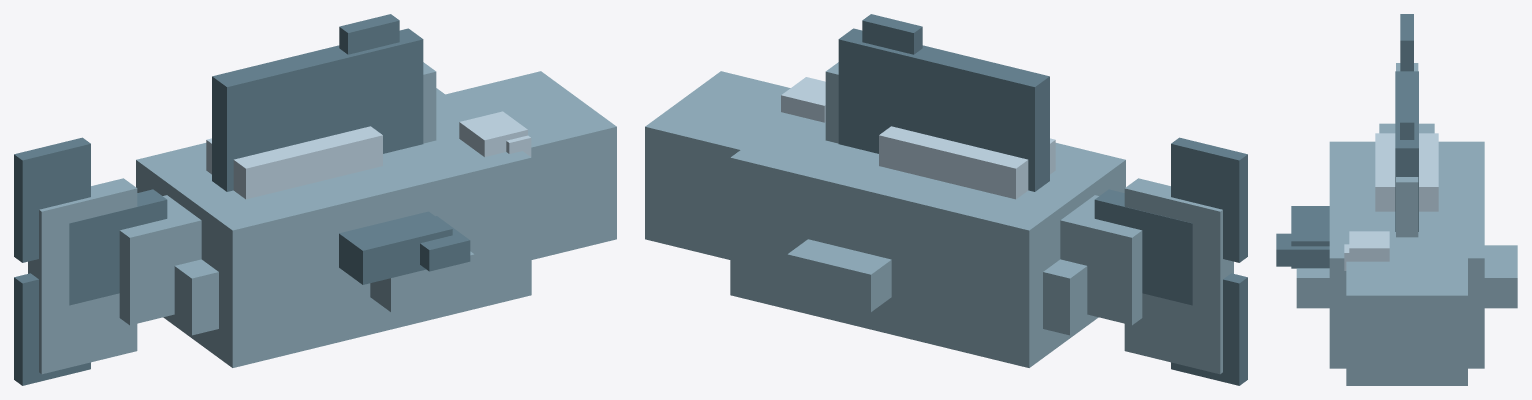
Rendered from fish_rime_bream.glb.
3 views of the same model, side by side, from view 1: azimuth 30°, elevation 25°; view 2: azimuth 150°, elevation 25°; view 3: azimuth 270°, elevation 25° (orthographic). The views are drawn at different scales.
Parts seen in each view (by area): view 1: FishArt_body, FishArt_dorsal, FishArt_tail, FishArt_pectoral, FishArt_specialty, FishArt_eye; view 2: FishArt_body, FishArt_dorsal, FishArt_tail, FishArt_specialty, FishArt_eye; view 3: FishArt_body, FishArt_specialty, FishArt_pectoral, FishArt_dorsal, FishArt_eye, FishArt_tail.
Part boxes in pixels (x1,y1,x2,y2): FishArt_body: [28, 62, 616, 374]; FishArt_dorsal: [212, 14, 423, 191]; FishArt_tail: [14, 137, 167, 385]; FishArt_pectoral: [339, 211, 470, 284]; FishArt_specialty: [206, 126, 382, 199]; FishArt_eye: [459, 111, 531, 156]; FishArt_body: [645, 62, 1233, 374]; FishArt_dorsal: [838, 14, 1049, 191]; FishArt_tail: [1094, 137, 1247, 385]; FishArt_specialty: [879, 126, 1055, 199]; FishArt_eye: [781, 77, 825, 122]; FishArt_body: [1296, 63, 1517, 385]; FishArt_specialty: [1375, 133, 1438, 211]; FishArt_pectoral: [1276, 206, 1329, 268]; FishArt_dorsal: [1395, 71, 1418, 231]; FishArt_eye: [1344, 231, 1389, 270]; FishArt_tail: [1400, 14, 1413, 71].
Bounding box in the file's own units: 0.3091 × 0.1442 × 0.1439.
